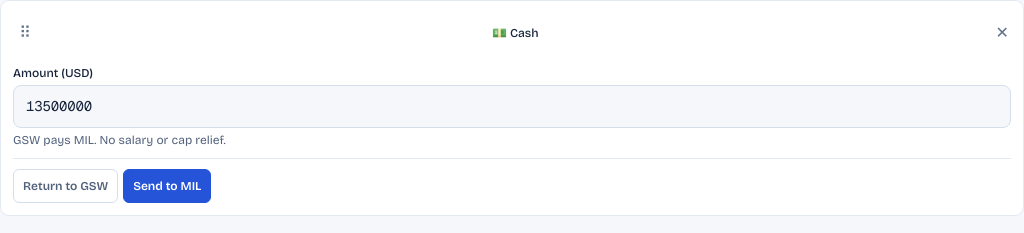
it: cash row exact whole-dollar editing › clears to an explicit zero instead of an invalid numeric value
Step 1. Clear the number field named "Cash amount from GSW to MIL" → [512, 106], box x1=13 y1=85 x2=1011 y2=128
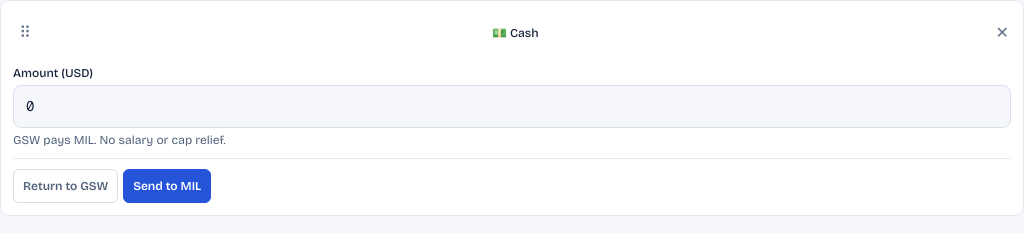
Result: the number field named "Cash amount from GSW to MIL" holds "0" at x1=13 y1=85 x2=1011 y2=128
